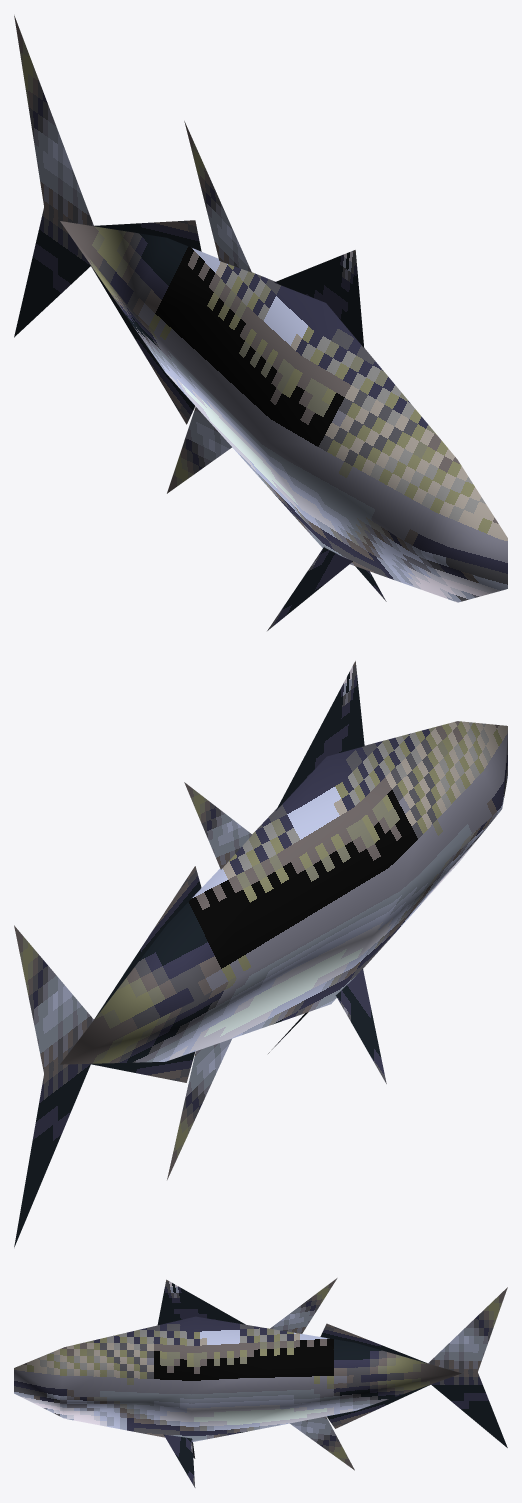
3 renders of one model, top to bottom at view 1: azimuth 30°, elevation 25°; view 2: azimuth 150°, elevation 25°; view 3: azimuth 270°, elevation 25°, orthographic. The views are drawn at different scales.
Visible parts, largest first — view 1: 4818fish28_r; view 2: 4818fish28_r; view 3: 4818fish28_r.
Boxes of the visible parts, left/top/right/bottom form: 4818fish28_r: left=14, top=15, right=507, bottom=630; 4818fish28_r: left=14, top=661, right=507, bottom=1247; 4818fish28_r: left=14, top=1278, right=507, bottom=1487.
Bounding box in the file's own units: 0.1655 × 0.4387 × 1.
2 materials, 2 textured.
